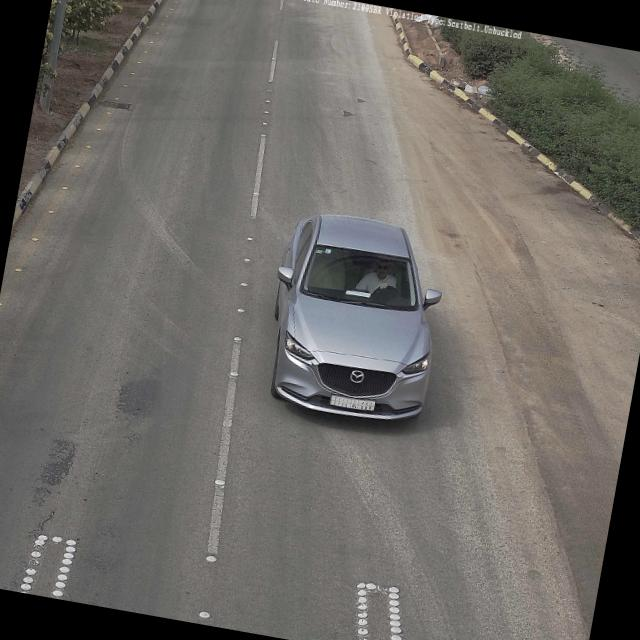person_without_seatbelt: (360, 253, 407, 300)
